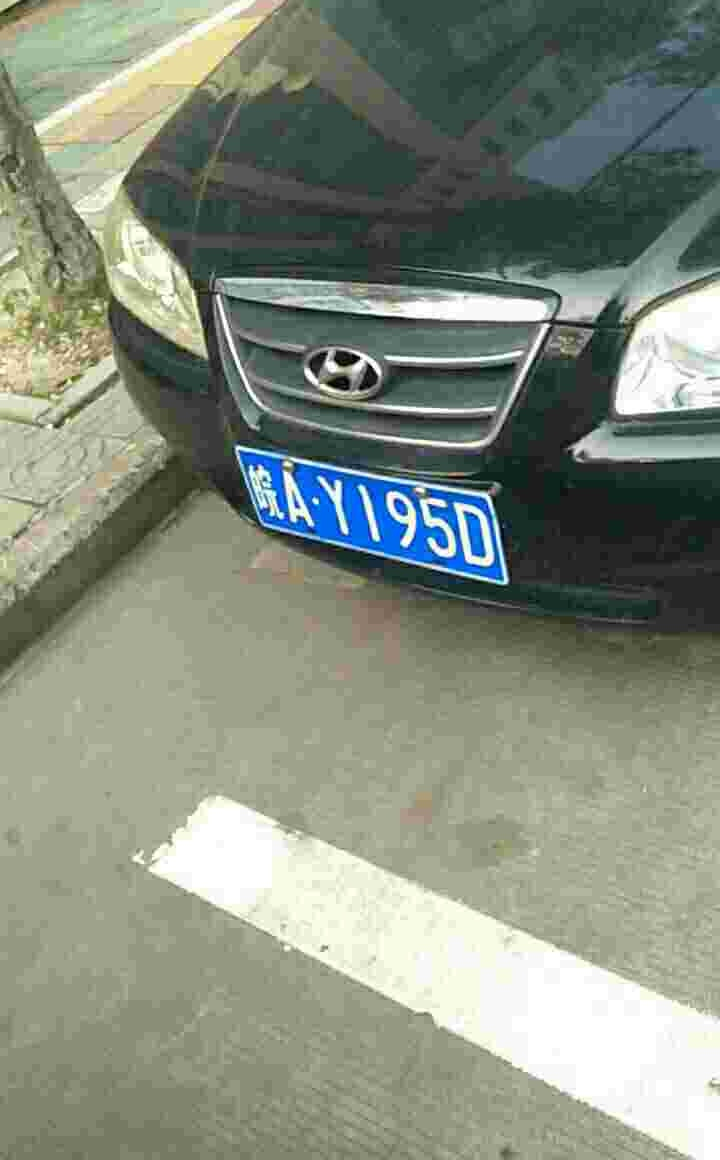car: (213, 443, 558, 597)
